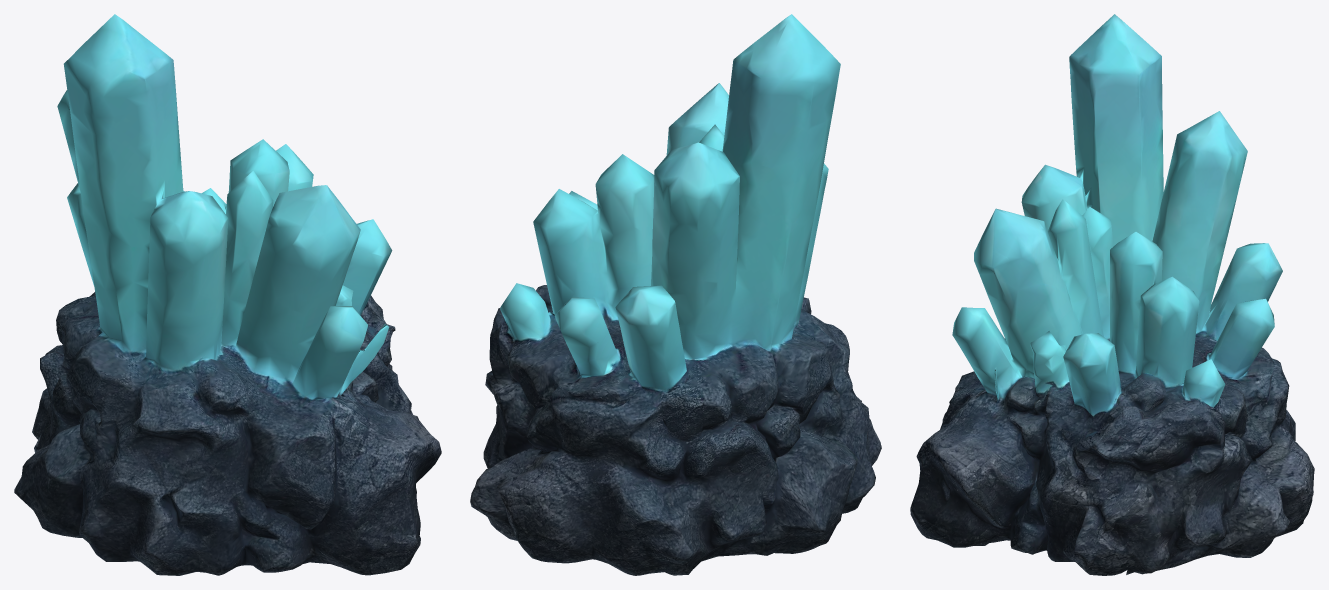
The model's file is spirit_crystal.glb.
3 views of the same model, side by side, from view 1: azimuth 30°, elevation 25°; view 2: azimuth 150°, elevation 25°; view 3: azimuth 270°, elevation 25° (orthographic). The views are drawn at different scales.
Visible parts, largest first — view 1: tripo_node_8ca4e025-7414-4542-a5d5-9c33b64f643c; view 2: tripo_node_8ca4e025-7414-4542-a5d5-9c33b64f643c; view 3: tripo_node_8ca4e025-7414-4542-a5d5-9c33b64f643c.
Part boxes in pixels (bbox=[...]): tripo_node_8ca4e025-7414-4542-a5d5-9c33b64f643c: bbox=[14, 14, 441, 575]; tripo_node_8ca4e025-7414-4542-a5d5-9c33b64f643c: bbox=[470, 14, 881, 575]; tripo_node_8ca4e025-7414-4542-a5d5-9c33b64f643c: bbox=[910, 14, 1314, 575].
Bounding box in the file's own units: 0.7082 × 1 × 0.8087.
1 material, 1 textured.
